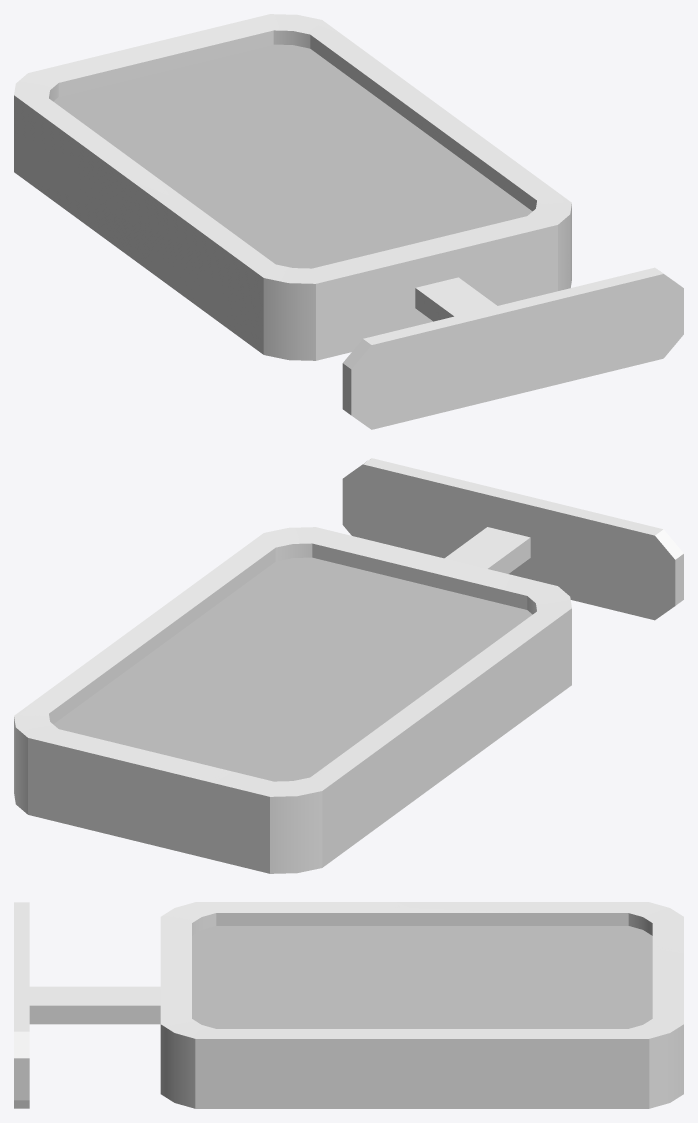
Rendered from P_Billboard02.fbx.
The picture shows the model from 3 angles, top to bottom: view 1: azimuth 30°, elevation 25°; view 2: azimuth 150°, elevation 25°; view 3: azimuth 270°, elevation 25°; orthographic projection. The views are drawn at different scales.
Visible parts, largest first — view 1: Ad_Billboard02; view 2: Ad_Billboard02; view 3: Ad_Billboard02.
Part boxes in pixels (x1,y1,x2,y2): Ad_Billboard02: (14,14,683,429); Ad_Billboard02: (14,458,683,873); Ad_Billboard02: (14,902,683,1108).
Bounding box in the file's own units: 157 × 38.22 × 301.
